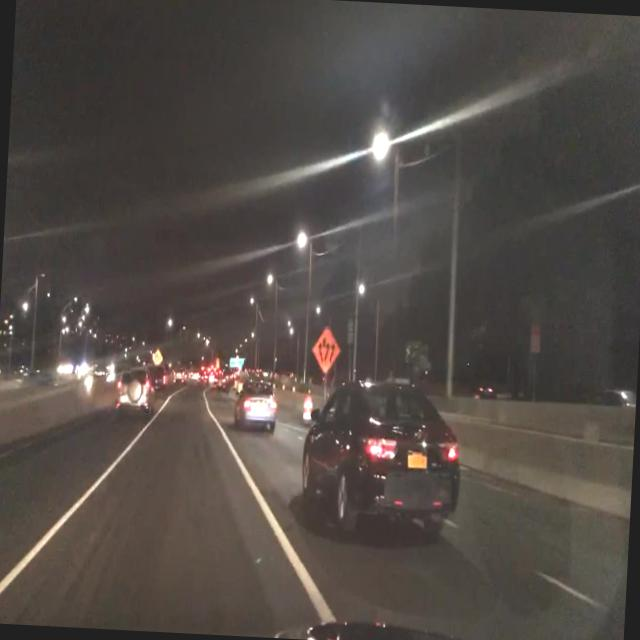Vehicle: (290, 371, 480, 546), (110, 364, 163, 433), (233, 368, 280, 440)
